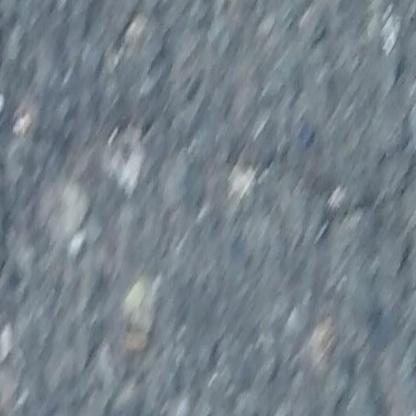Cracks: (70, 110, 372, 225), (0, 0, 18, 359), (378, 131, 416, 217)
